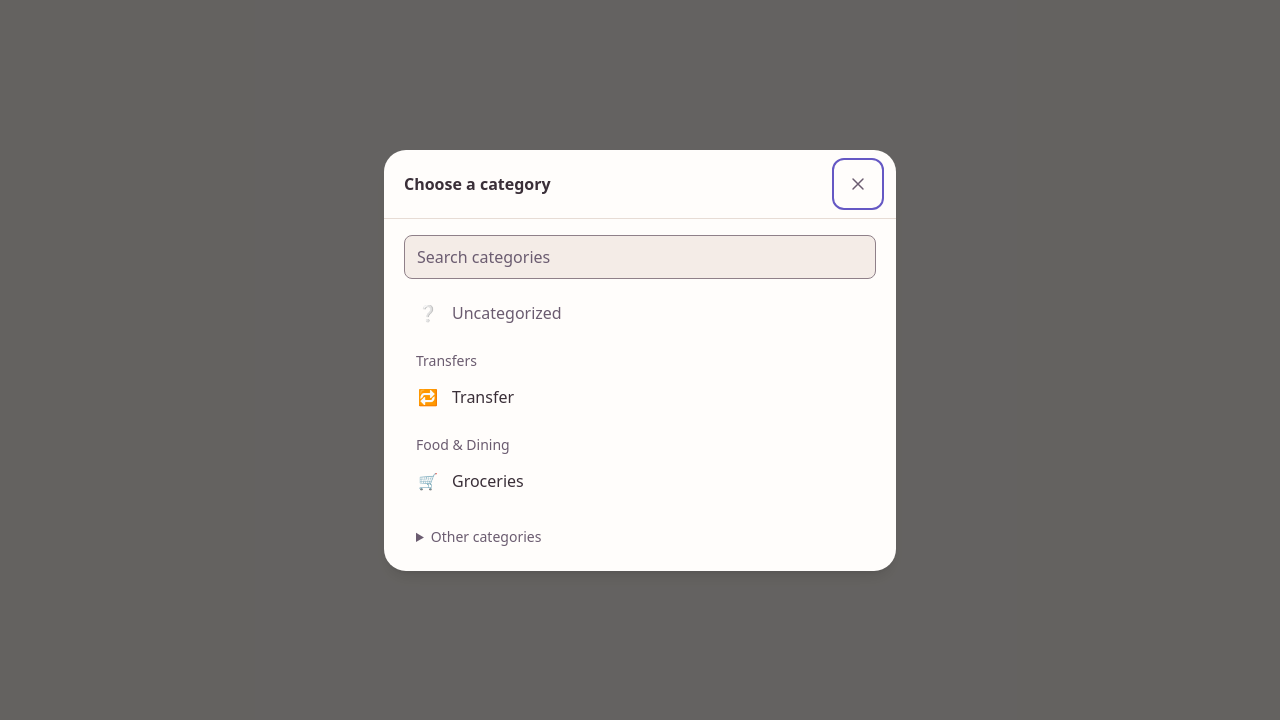
Test: <CategoryPicker /> › says what to do when nothing matches
Type "zzz" into the search field with test id "category-picker-search" at {"x": 640, "y": 256}, box left=404, top=234, right=876, bottom=278
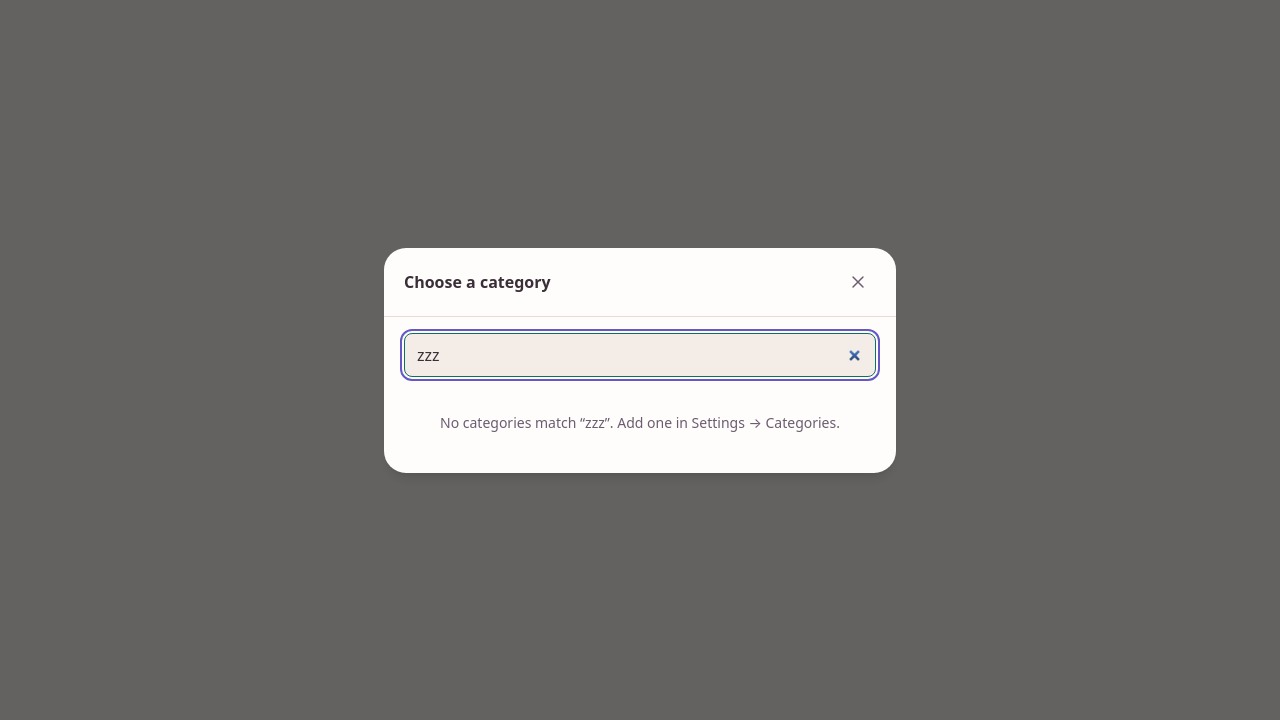
expect the text "No categories match “zzz”. Add one in Settings → Categories." is shown: met, box left=440, top=412, right=840, bottom=432
